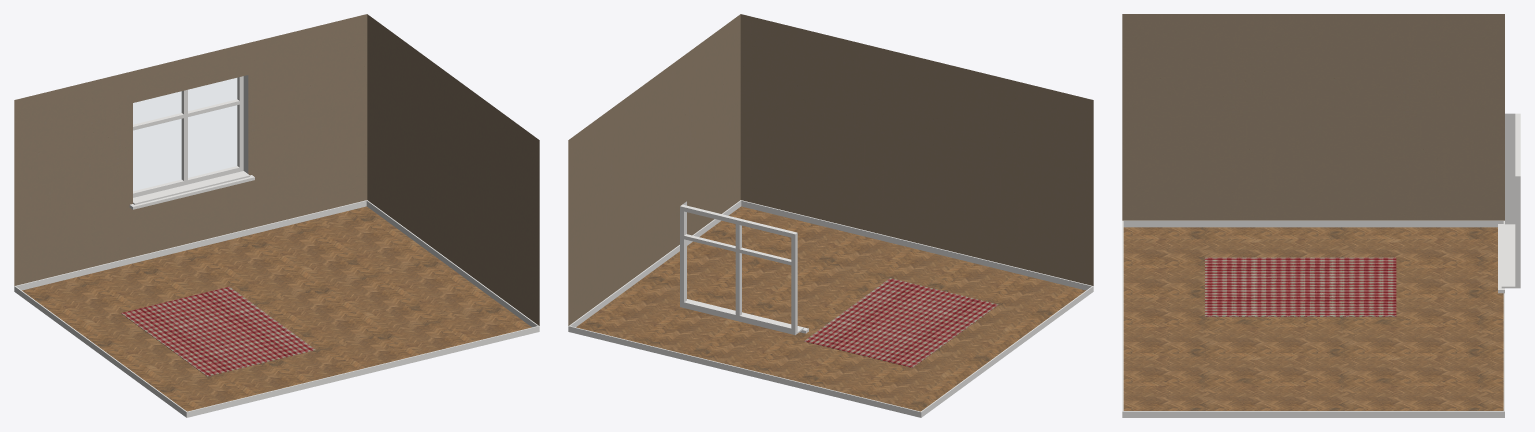
File: room.glb
3 renders of one model, left to right at view 1: azimuth 30°, elevation 25°; view 2: azimuth 150°, elevation 25°; view 3: azimuth 270°, elevation 25°, orthographic. The views are drawn at different scales.
Parts seen in each view (by area): view 1: walls, floor, trim, rug, window_light; view 2: walls, floor, trim, rug; view 3: walls, floor, rug, trim.
Part boxes in pixels (x1,y1,x2,y2): walls: (14, 14, 539, 325); floor: (22, 206, 531, 411); trim: (14, 75, 539, 417); rug: (121, 286, 315, 376); window_light: (133, 78, 237, 191); walls: (568, 14, 1093, 325); floor: (576, 206, 1085, 411); trim: (568, 200, 1093, 417); rug: (804, 278, 998, 367); walls: (1122, 14, 1504, 220); floor: (1123, 227, 1503, 410); rug: (1205, 257, 1396, 316); trim: (1122, 113, 1520, 417).
Bounding box in the file's own units: 5.2 × 2.7 × 4.58.
Materials: 6 (3 with a texture image).
